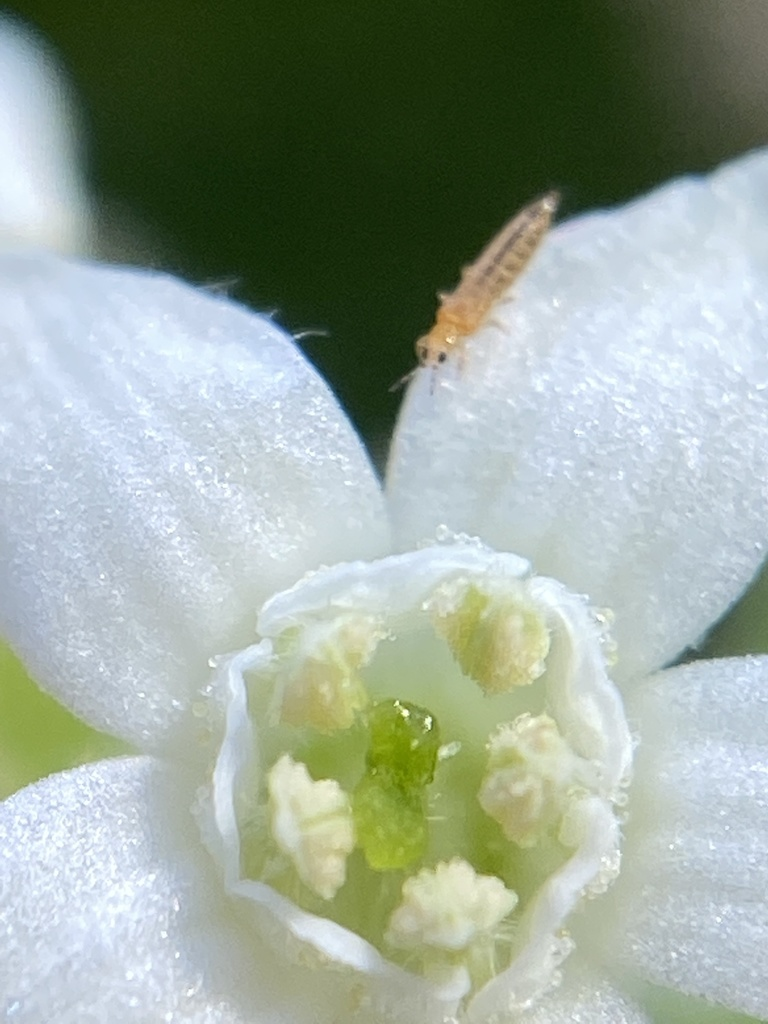tiny_pests: (335, 135, 622, 440)
